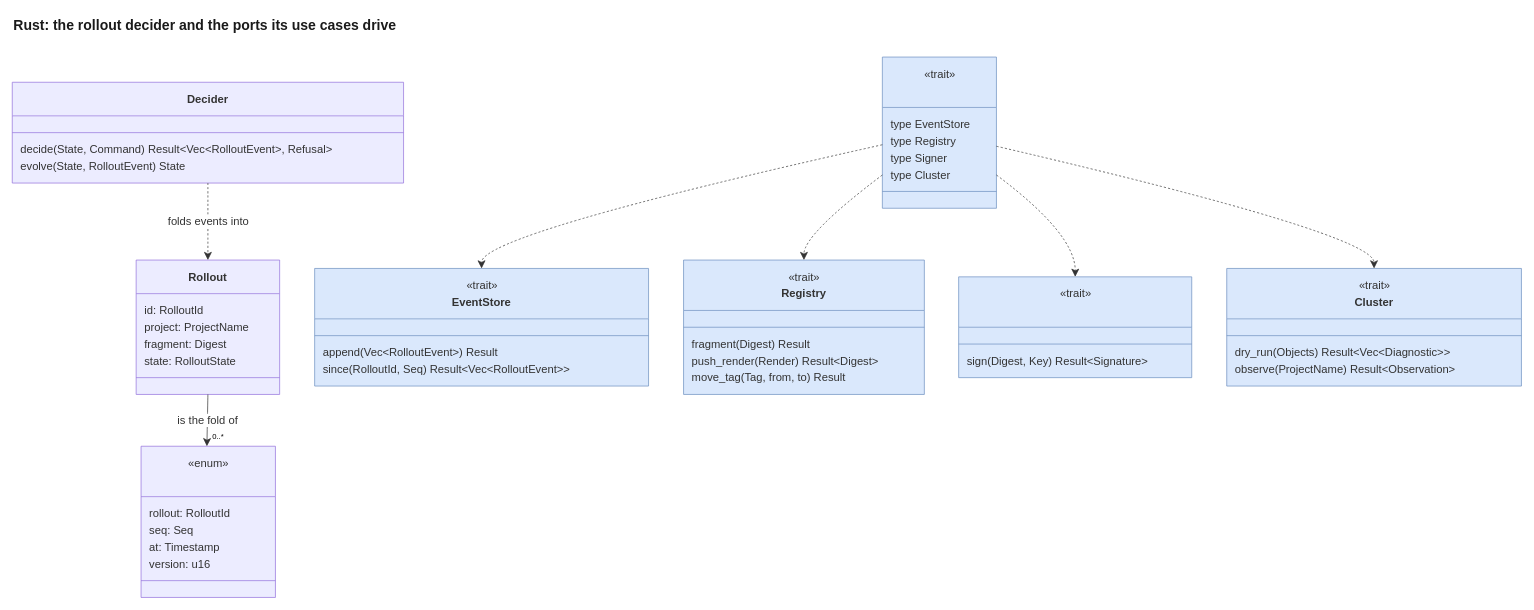
Some shapes in this 1534 by 610 pixel diagram are drawn without their labels. The box of each missing label's shape, as (x1, y1, x2, y2) in pixels:
Ports: (882, 56, 996, 208)
RolloutEvent: (140, 446, 275, 597)
Signer: (958, 276, 1192, 378)
